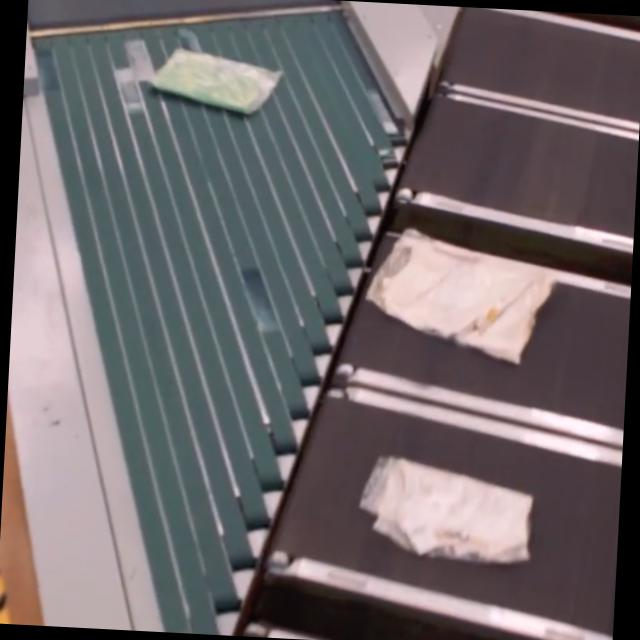mailer: (366, 227, 558, 368), (364, 454, 536, 564), (146, 46, 283, 120)
